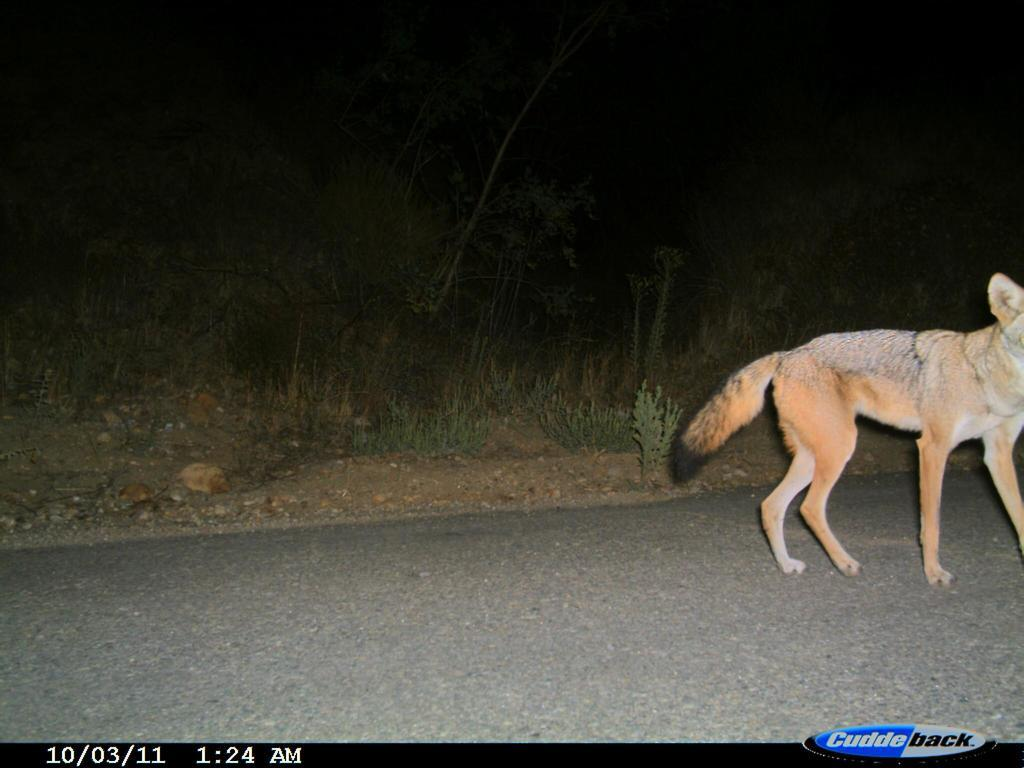coyote: (637, 260, 1023, 597)
